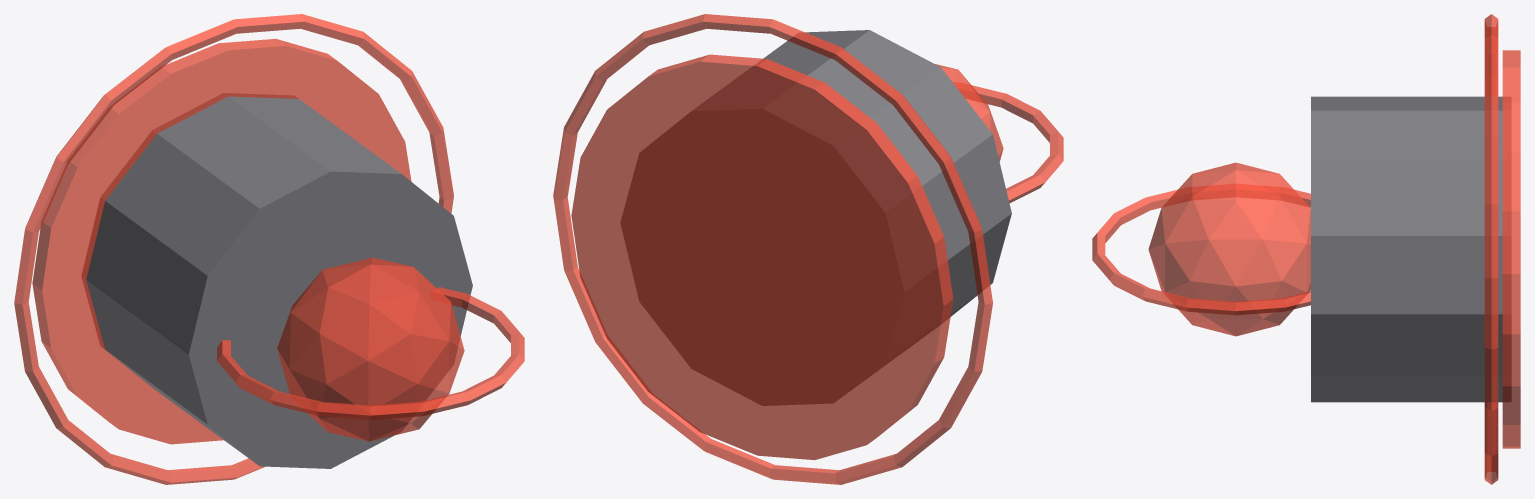
The model's file is 07_villain_contract.glb.
The picture shows the model from 3 angles, left to right: view 1: azimuth 30°, elevation 25°; view 2: azimuth 150°, elevation 25°; view 3: azimuth 270°, elevation 25°; orthographic projection. The views are drawn at different scales.
Parts seen in each view (by area): view 1: pedestal, base_disc, story_core, base_ring, halo; view 2: base_disc, pedestal, base_ring, halo, story_core; view 3: pedestal, story_core, base_disc, base_ring, halo.
Part boxes in pixels (left/top/right/bottom): pedestal: left=82, top=93, right=472, bottom=468; base_disc: left=32, top=38, right=411, bottom=444; story_core: left=277, top=257, right=464, bottom=441; base_ring: left=14, top=14, right=453, bottom=484; halo: left=217, top=287, right=524, bottom=419; base_disc: left=571, top=54, right=953, bottom=460; pedestal: left=621, top=30, right=1011, bottom=405; base_ring: left=553, top=14, right=992, bottom=484; halo: left=953, top=82, right=1063, bottom=202; story_core: left=935, top=64, right=1003, bottom=161; pedestal: left=1311, top=96, right=1510, bottom=402; story_core: left=1148, top=162, right=1310, bottom=336; base_disc: left=1502, top=50, right=1520, bottom=448; base_ring: left=1484, top=14, right=1498, bottom=484; halo: left=1092, top=184, right=1310, bottom=315.
Size of the model in its own units: 1.3 by 1.3 by 1.17.
